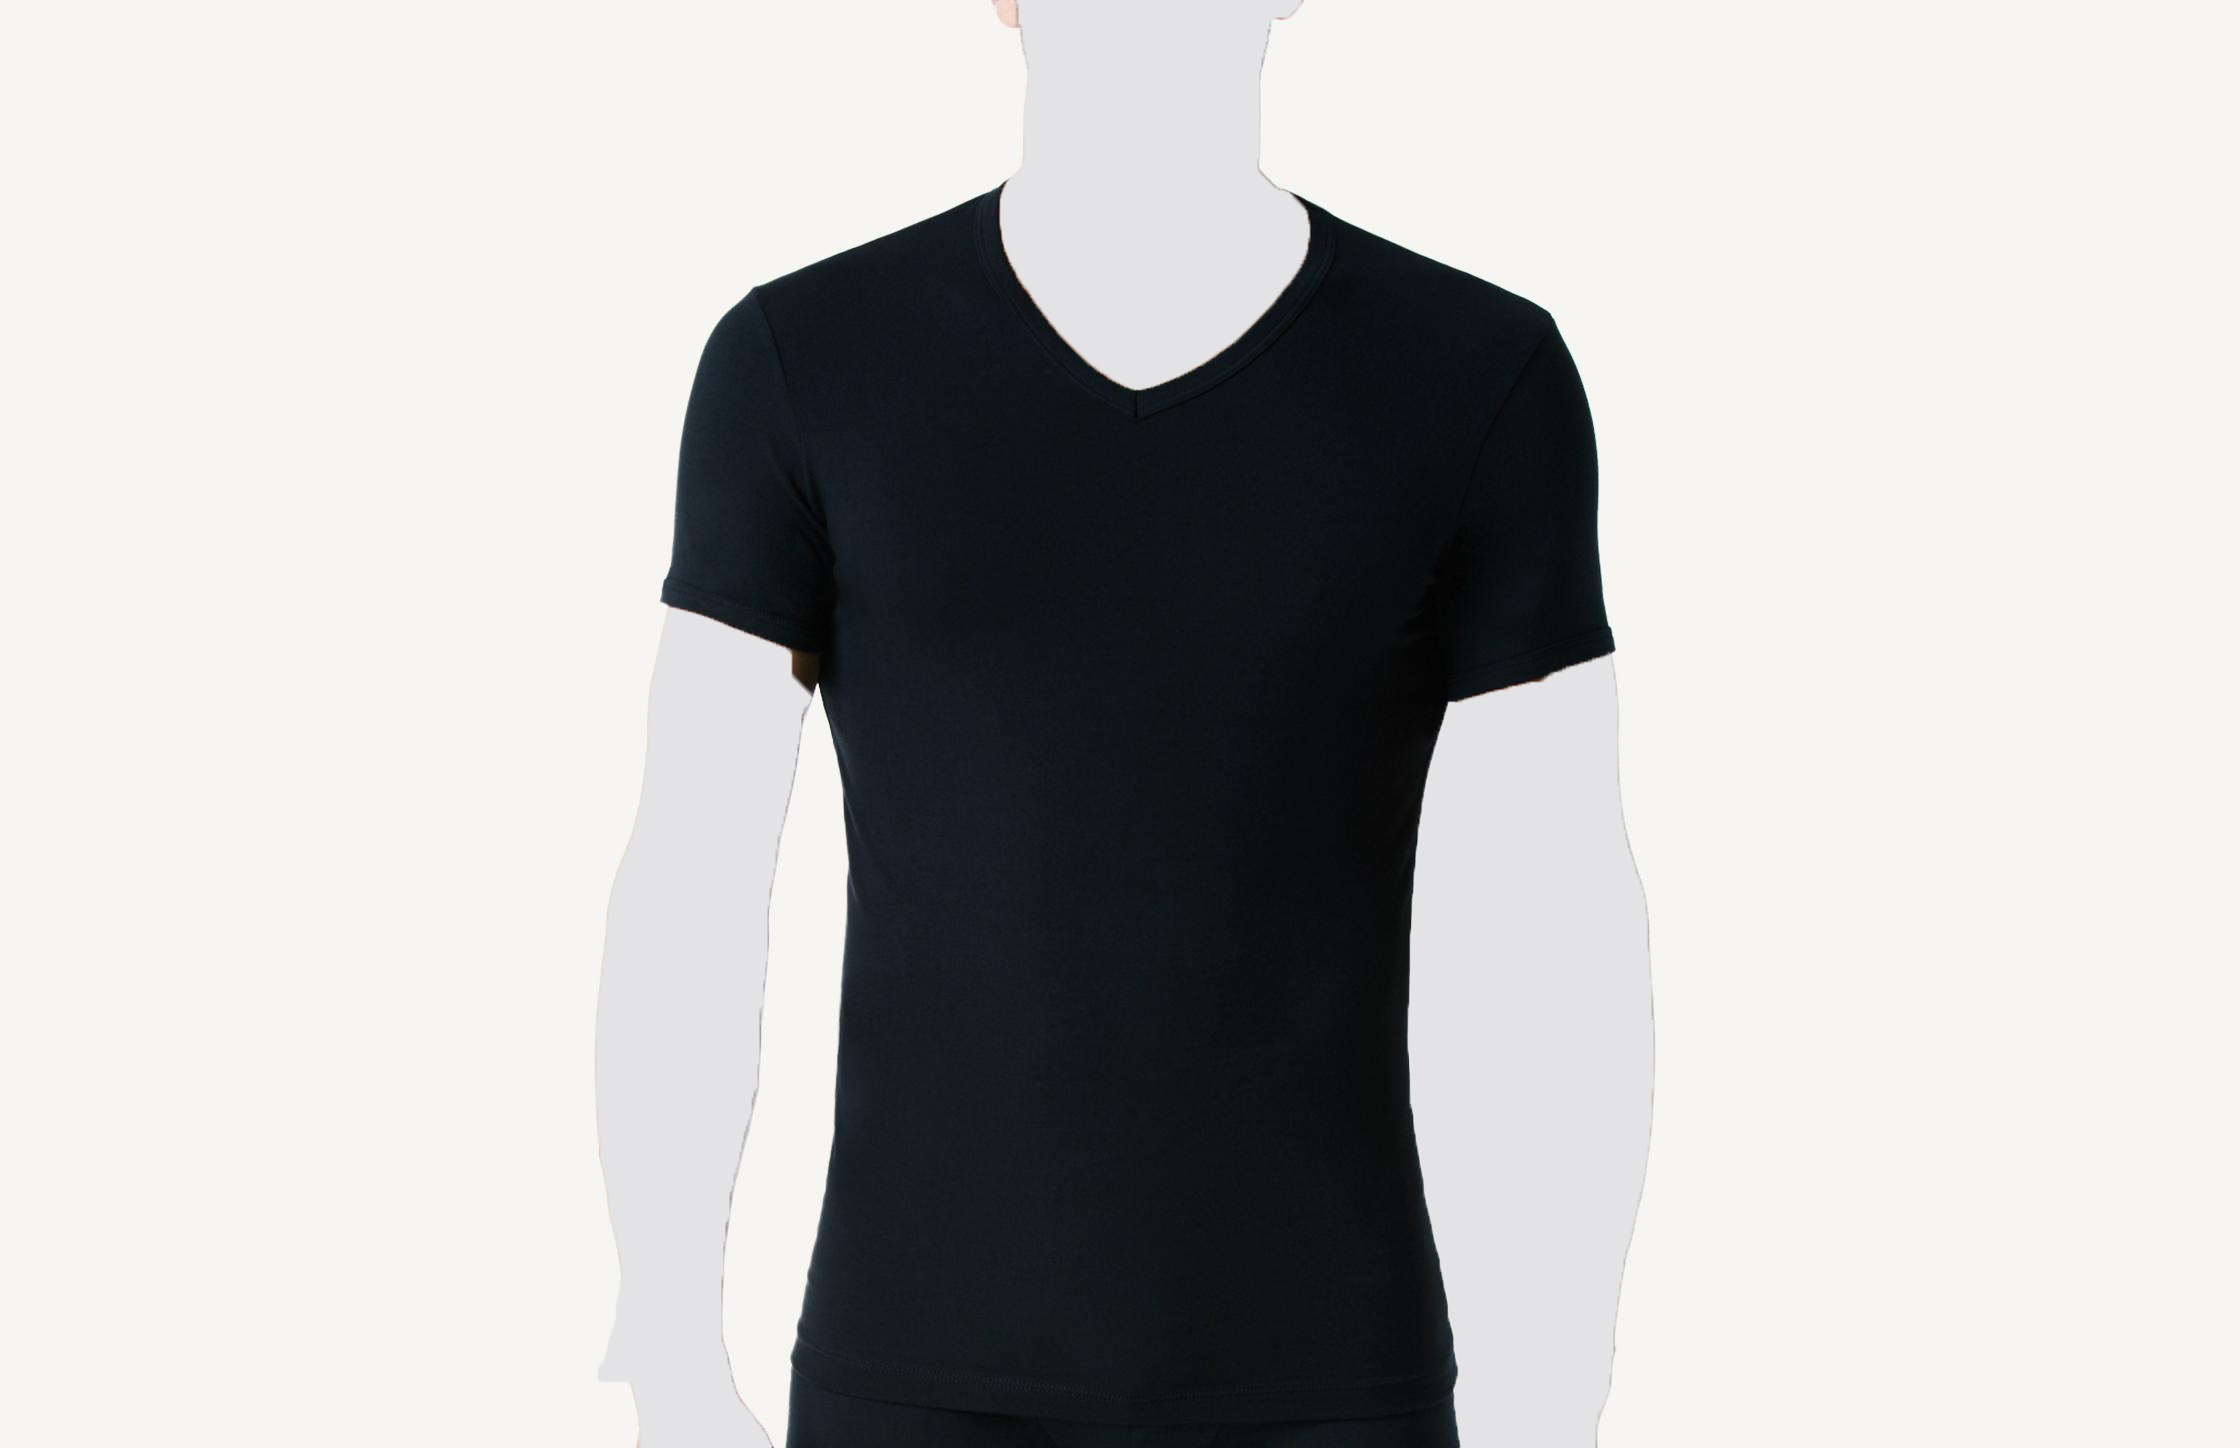teeshirt: (643, 167, 1634, 1446)
